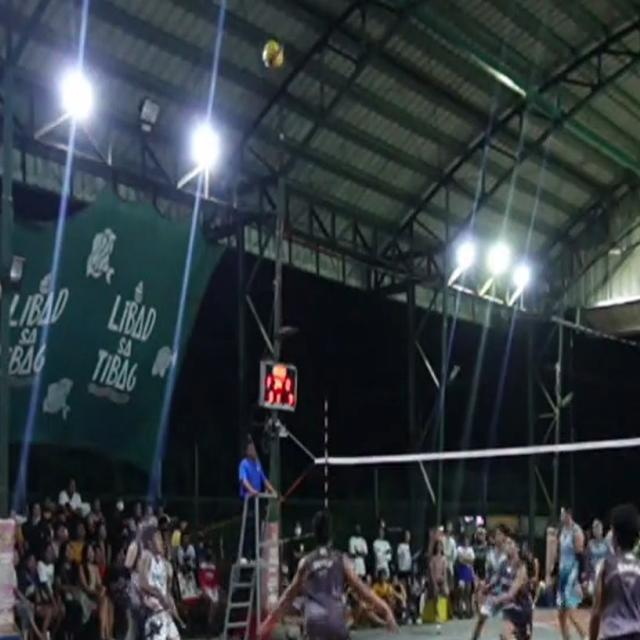volleyball: (262, 38, 284, 68)
